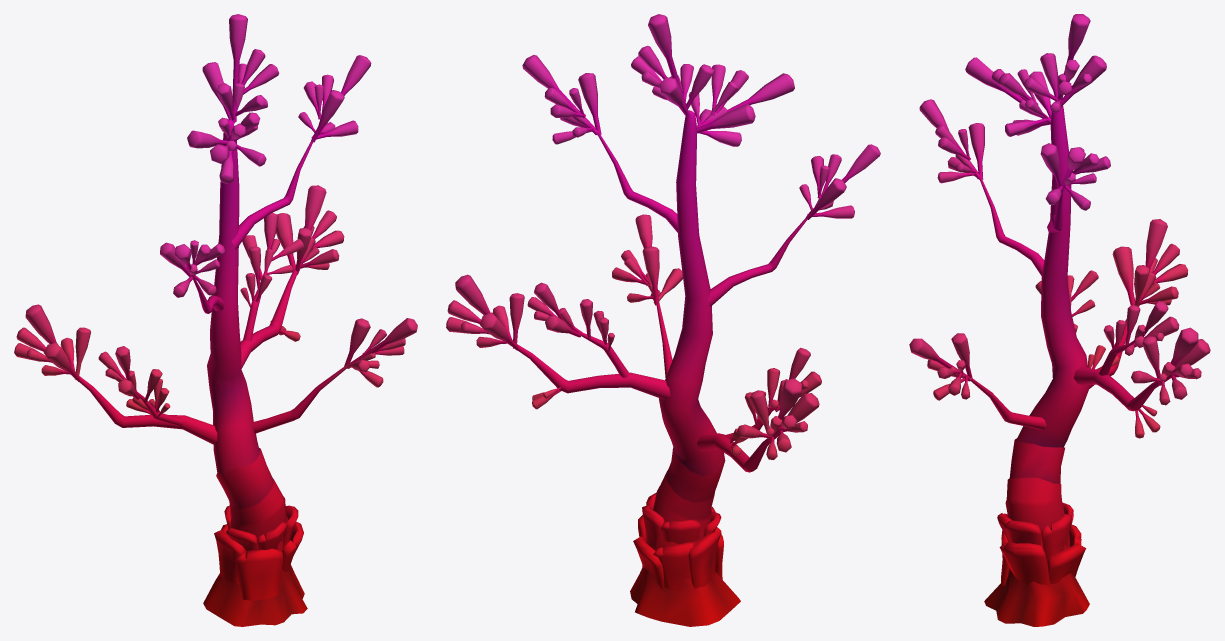
File: tree_spore_3_GEO.fbx
3 views of the same model, side by side, from view 1: azimuth 30°, elevation 25°; view 2: azimuth 150°, elevation 25°; view 3: azimuth 270°, elevation 25° (orthographic). The views are drawn at different scales.
Visible parts, largest first — view 1: tree_spore_3_LOD0; view 2: tree_spore_3_LOD0; view 3: tree_spore_3_LOD0.
Part boxes in pixels (box(x1,y1,x2,y2)): tree_spore_3_LOD0: box(14, 14, 417, 626); tree_spore_3_LOD0: box(446, 14, 880, 626); tree_spore_3_LOD0: box(909, 14, 1210, 626).
Size of what is drawn, in the model's own units: 2.18 by 3.65 by 1.68.
